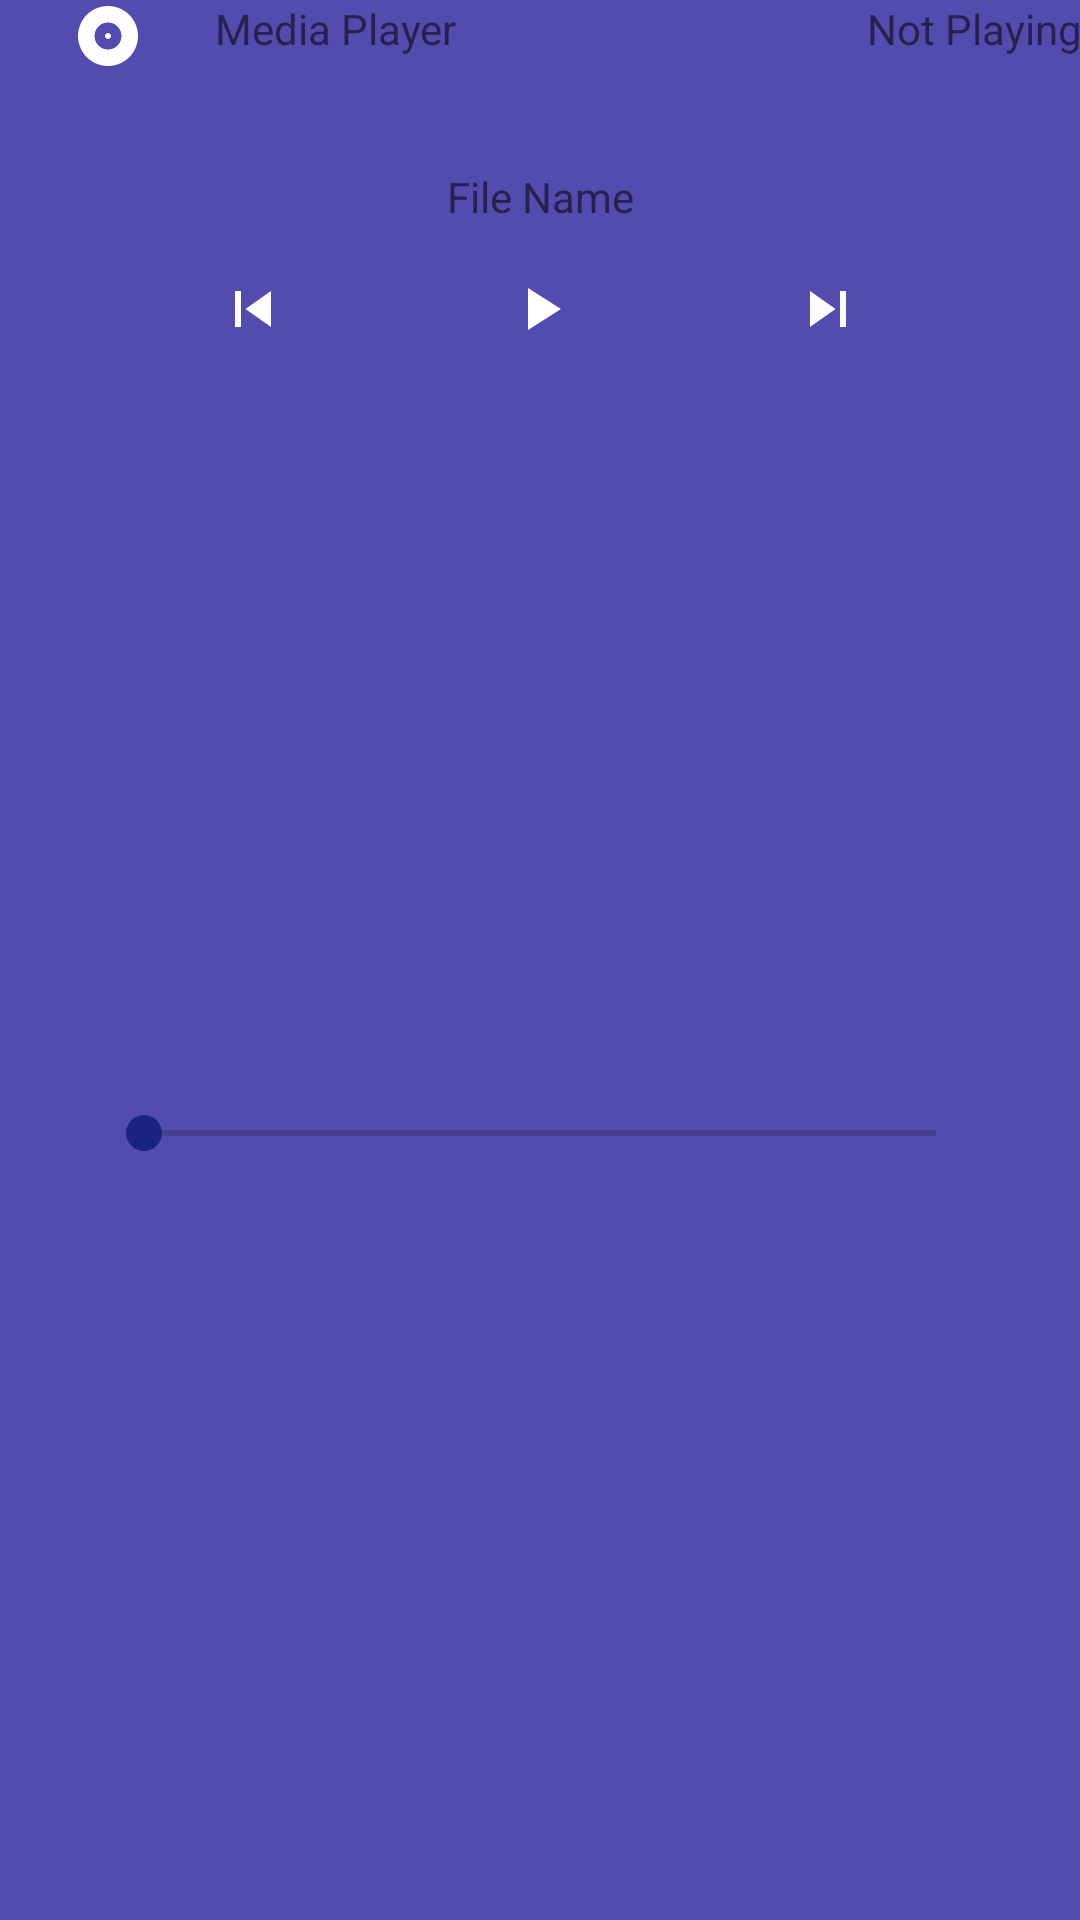

Screen size 1080w x 1920h. Icon name, then its box in pixels as {"x1": x1, "y1": y1, "x2": x2, "y2": y2}:
record next: {"x1": 810, "y1": 291, "x2": 846, "y2": 327}
record play: {"x1": 528, "y1": 288, "x2": 561, "y2": 330}
record previous: {"x1": 235, "y1": 291, "x2": 271, "y2": 327}
track: {"x1": 78, "y1": 6, "x2": 138, "y2": 66}
